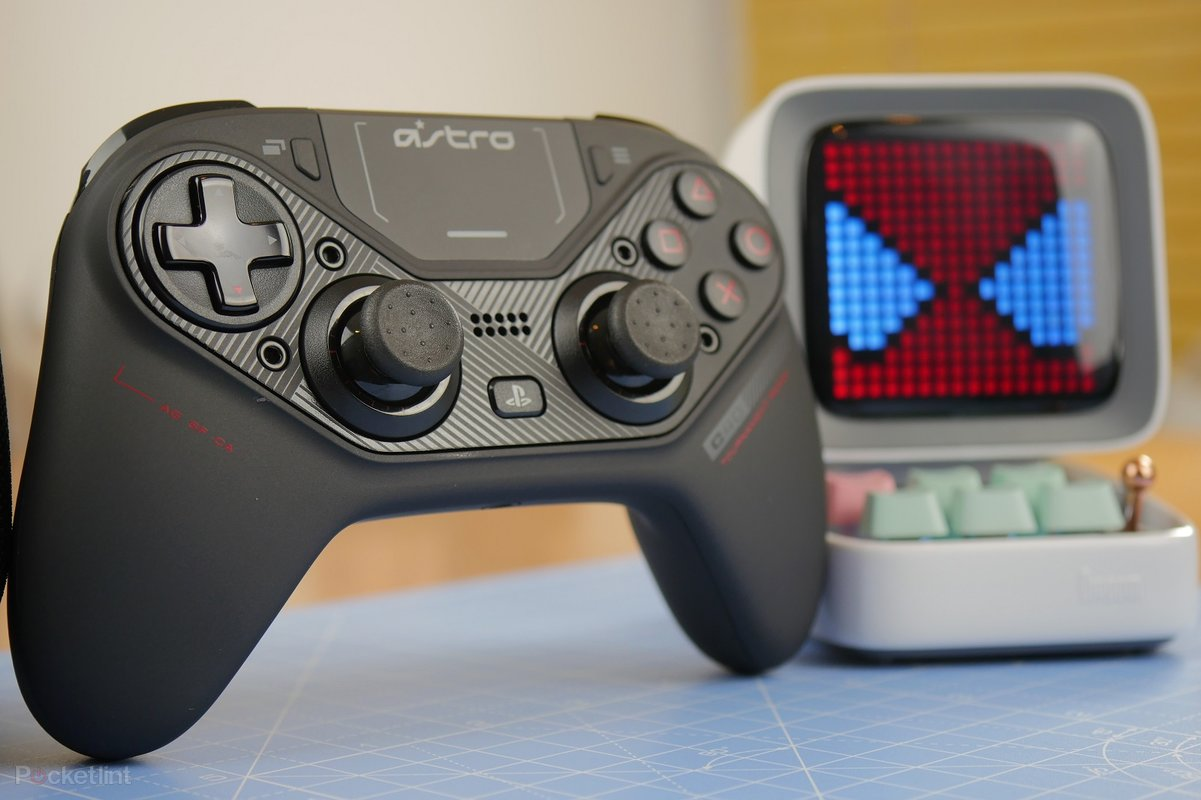controller: (7, 98, 819, 755)
